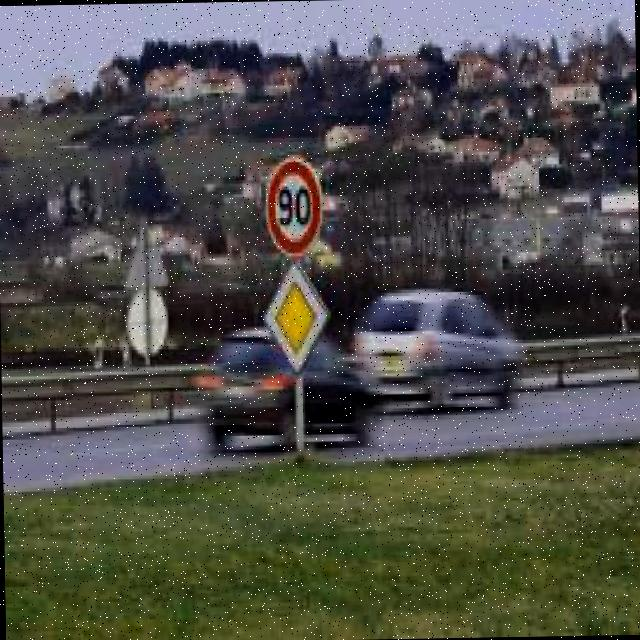Ograniczenie predkosci do 90: (269, 153, 320, 256)
